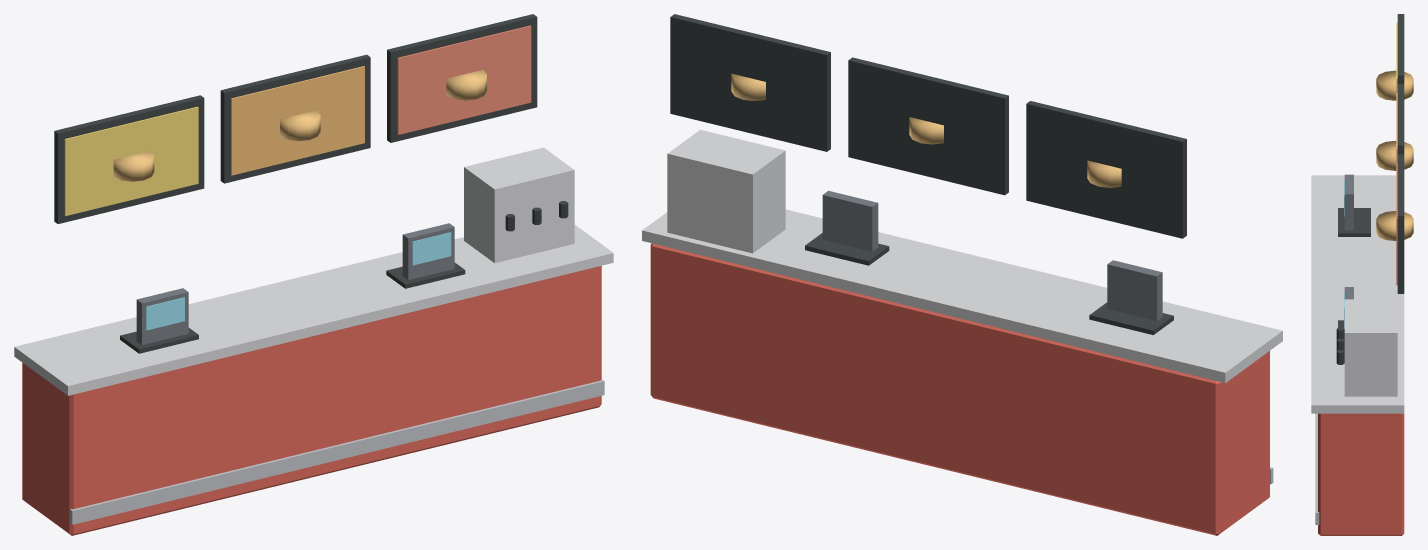
Rendered from counter-burger.glb.
The picture shows the model from 3 angles, left to right: view 1: azimuth 30°, elevation 25°; view 2: azimuth 150°, elevation 25°; view 3: azimuth 270°, elevation 25°; orthographic projection. The views are drawn at different scales.
Visible parts, largest first — view 1: counter-burger; view 2: counter-burger; view 3: counter-burger.
Part boxes in pixels (x1,y1,x2,y2): counter-burger: (14, 14, 613, 535); counter-burger: (642, 14, 1282, 535); counter-burger: (1311, 14, 1413, 535).
Bounding box in the file's own units: 4.1 × 2.6 × 0.77.
